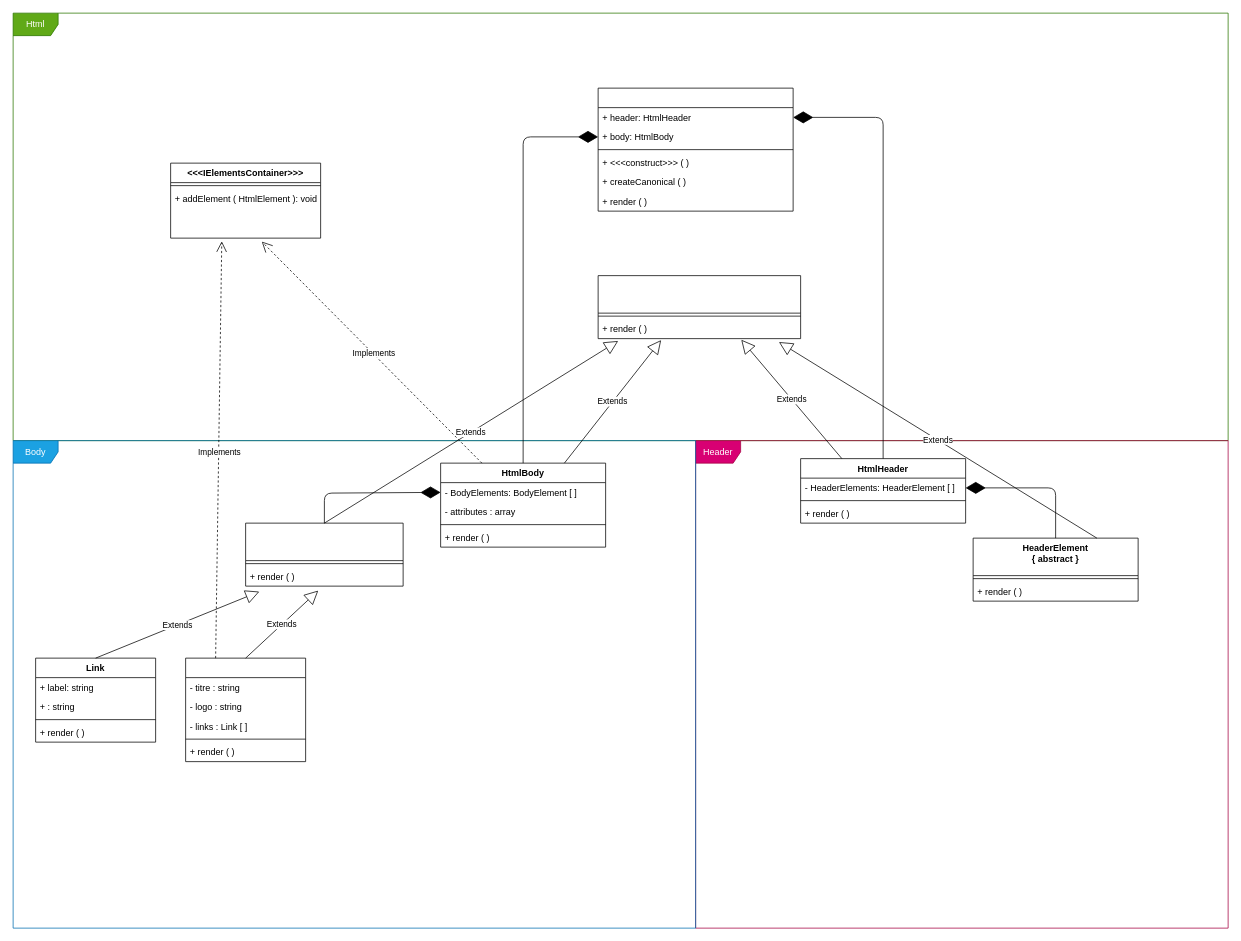
The diagram is 1241 pixels wide and 941 high, and some of its shapes have lost their labels. The shapes that lost their labels are listed below. From the top down, each one's box as (x1, y1, x2, y2) in pixels, then its label:
(597, 87, 793, 211): HtmlPage
(597, 275, 801, 339): HtmlElement { abstract }
(245, 522, 403, 586): BodyElement { abstract }
(185, 657, 306, 762): Navbar
